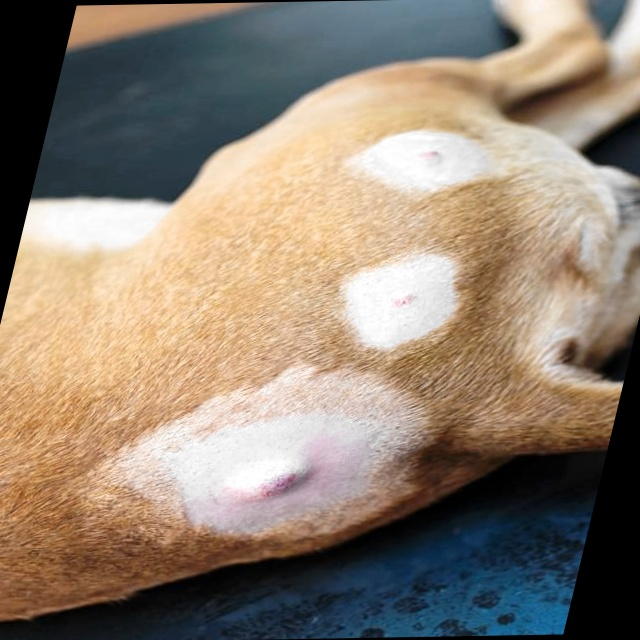lump_and_bump: (219, 462, 311, 503), (406, 142, 445, 171), (390, 286, 421, 312)
